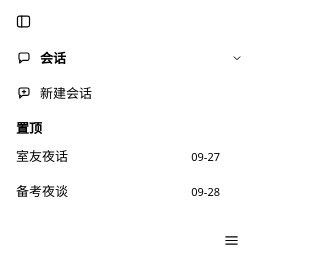
Test: Sidebar (手风琴侧栏 v2) › 已置顶行右键: 首项动态文案翻转为 "取消置顶" (pinnedAt 驱动)
Right-click the list item "室友夜话 09-27": [118, 157] box [16,146,220,167]
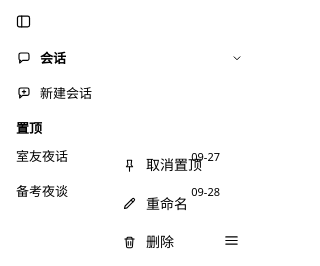
Result: the menu item "取消置顶" is shown at [110,146,246,185]
